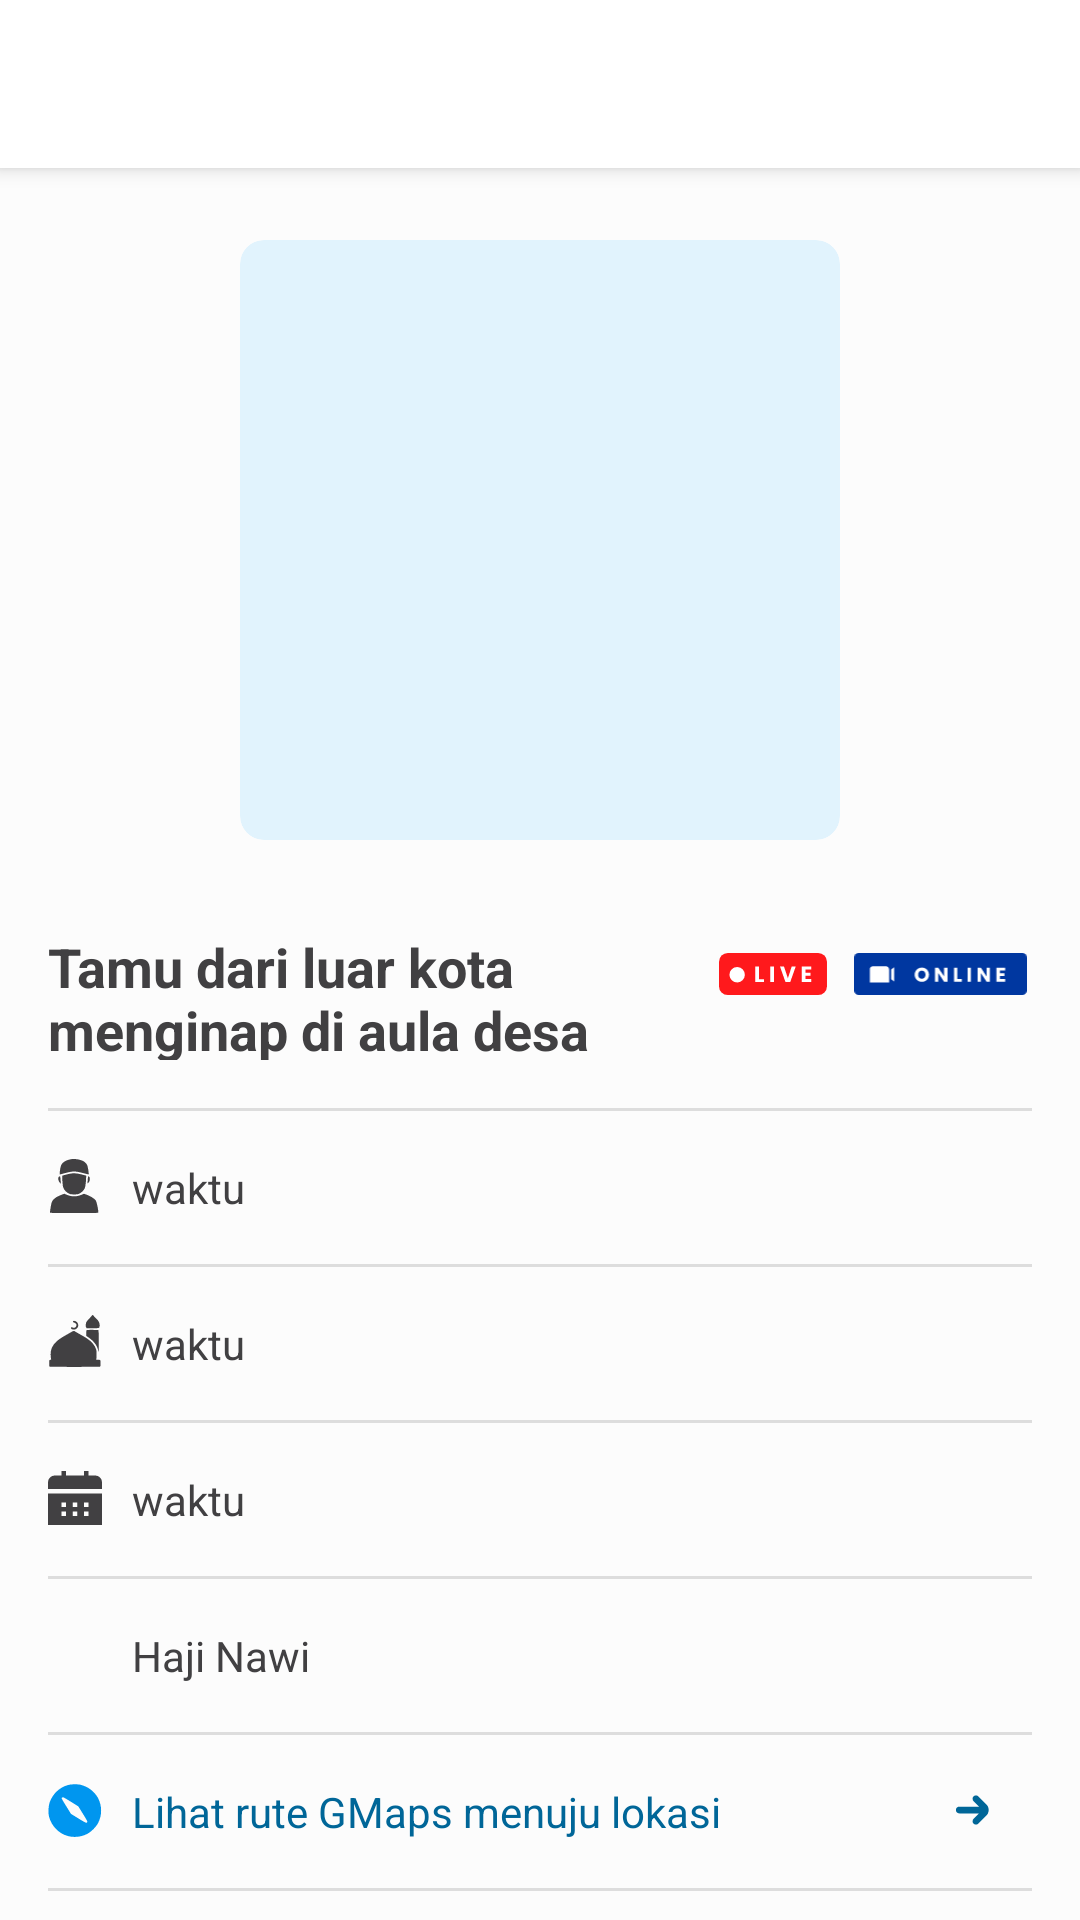

Icons on this 1080 x 1920 Android screen, each with the point to tap as (x=x, y=y):
arrow right: (x=972, y=1810)
calendar: (x=75, y=1498)
location: (x=74, y=1810)
mosque: (x=75, y=1341)
